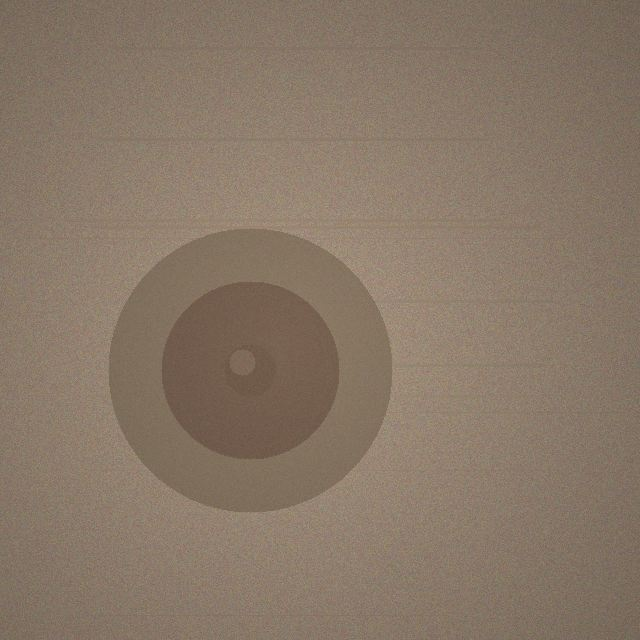good: (108, 228, 392, 512)
